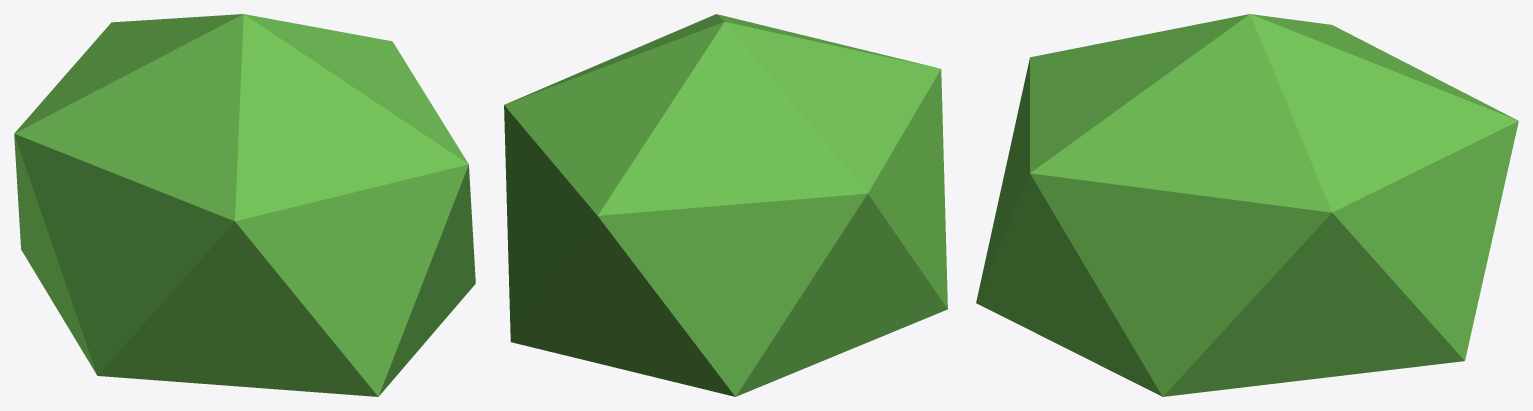
File: Bush 2.fbx
The picture shows the model from 3 angles, left to right: view 1: azimuth 30°, elevation 25°; view 2: azimuth 150°, elevation 25°; view 3: azimuth 270°, elevation 25°; orthographic projection. The views are drawn at different scales.
Visible parts, largest first — view 1: Bush 2; view 2: Bush 2; view 3: Bush 2.
Boxes of the visible parts, left/top/right/bottom form: Bush 2: left=14, top=14, right=475, bottom=396; Bush 2: left=504, top=14, right=947, bottom=396; Bush 2: left=976, top=14, right=1518, bottom=396.
Bounding box in the file's own units: 147 × 105 × 180.
1 material, 1 textured.
